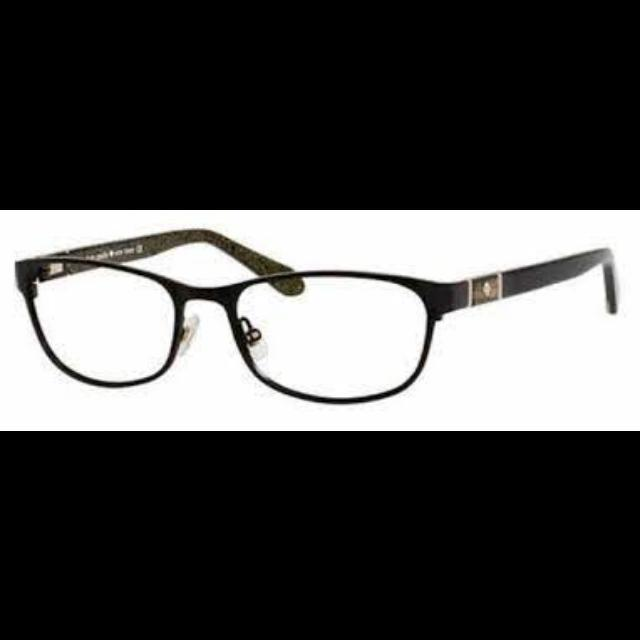glasses: (13, 226, 625, 404)
